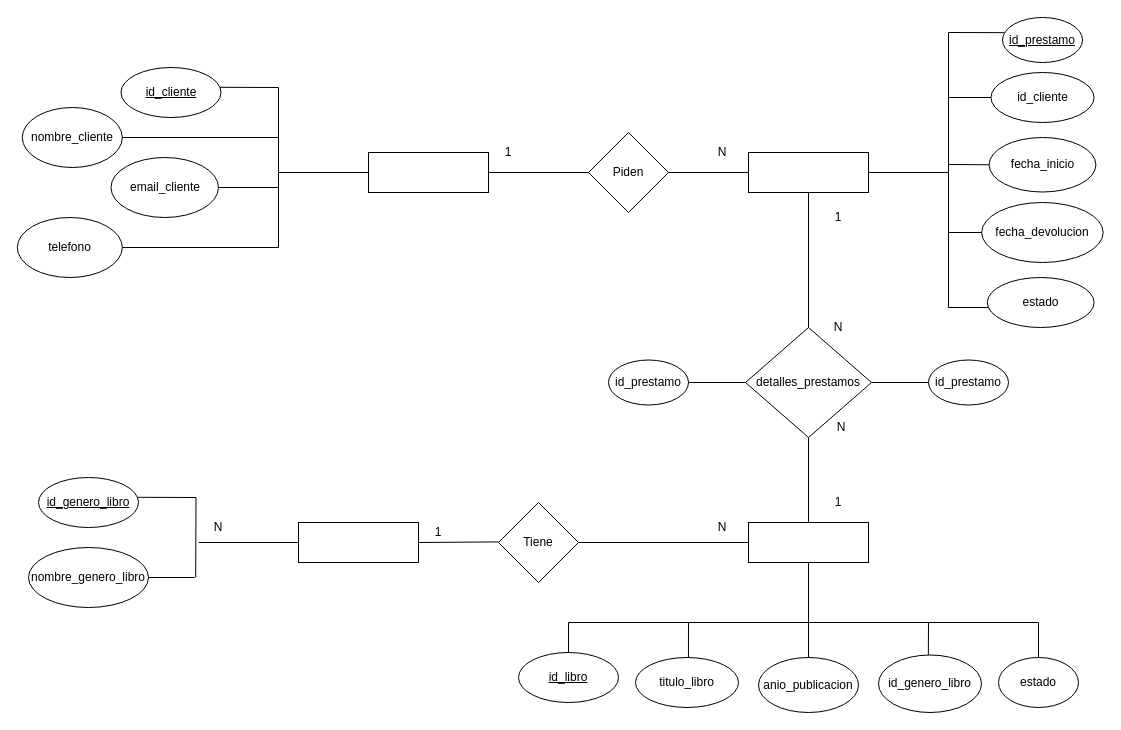
The diagram is 1121 pixels wide and 730 high, and some of its shapes have lost their labels. The centre of each missing label's shape, as x and y in pixels:
"clientes" goes at point 428,172.
"generos_libros" goes at point 358,542.
"libros" goes at point 808,542.
"prestamos" goes at point 808,172.
